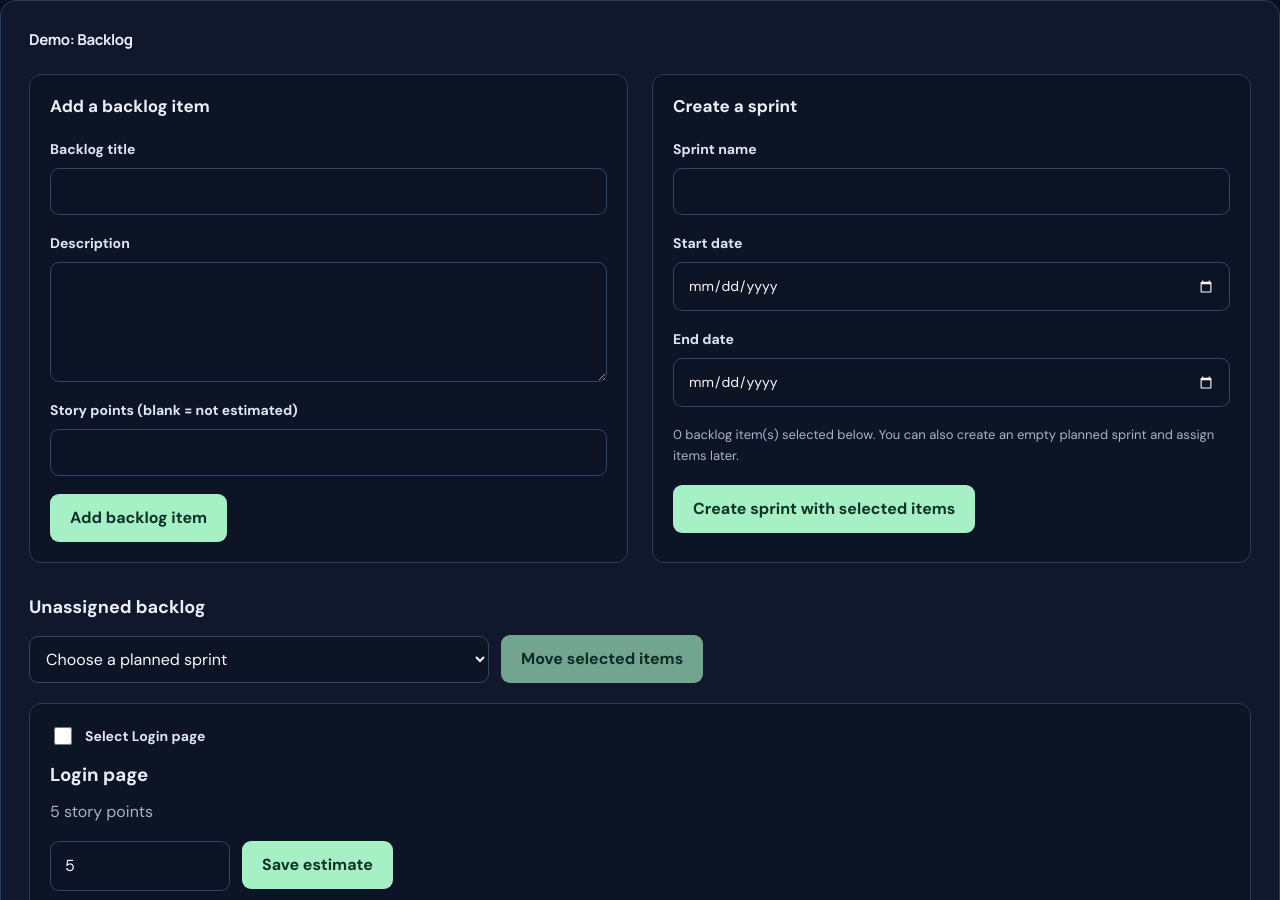
Test: assigns selected item and refreshes sprint membership and total
Expected: the heading "Demo: Backlog" is shown, [29, 29, 133, 50]
Click the checkbox labelled "Select Login page": (63, 736) [54, 727, 72, 745]
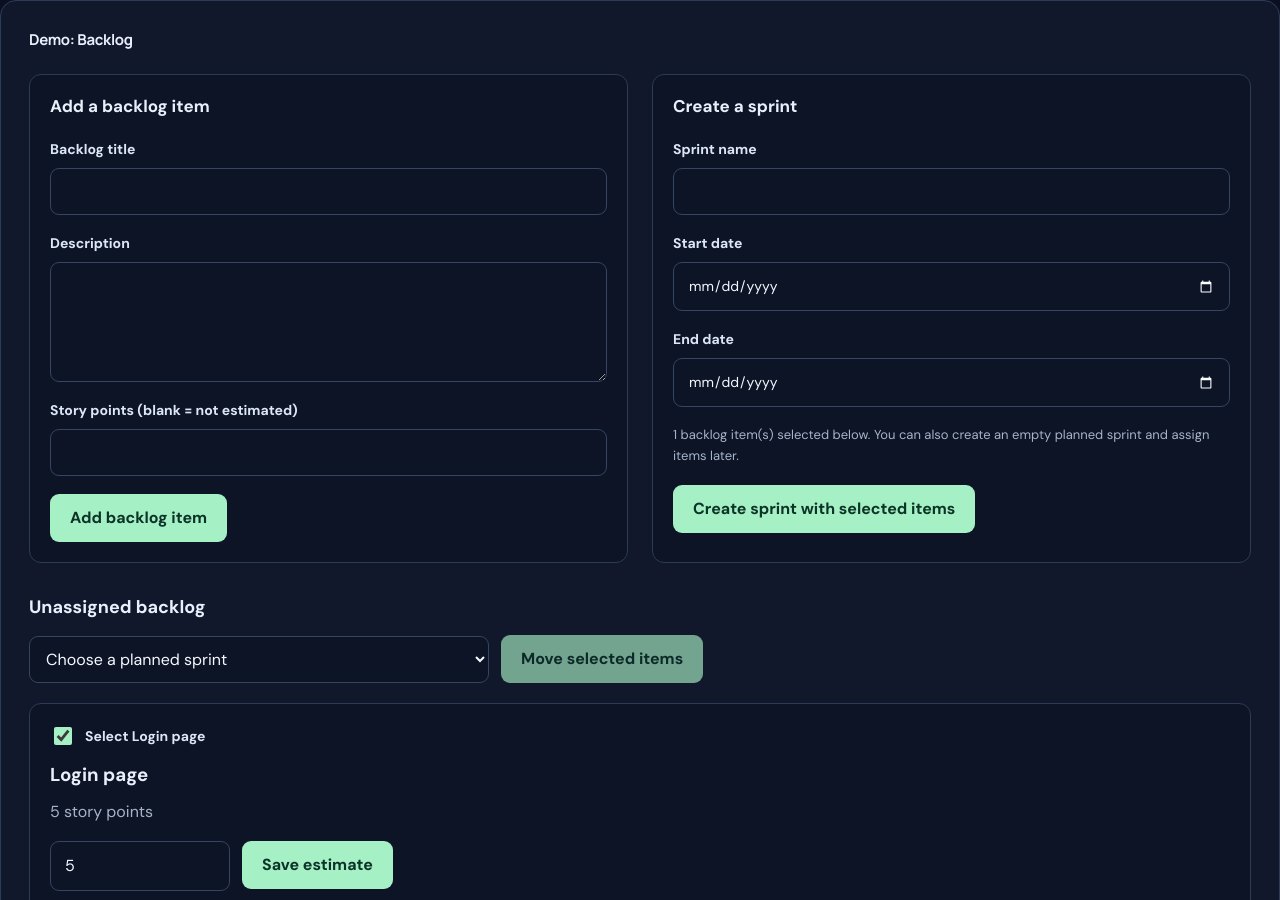
Select "Sprint 2" in the dropdown named "Destination sprint": (259, 659) [29, 636, 489, 682]
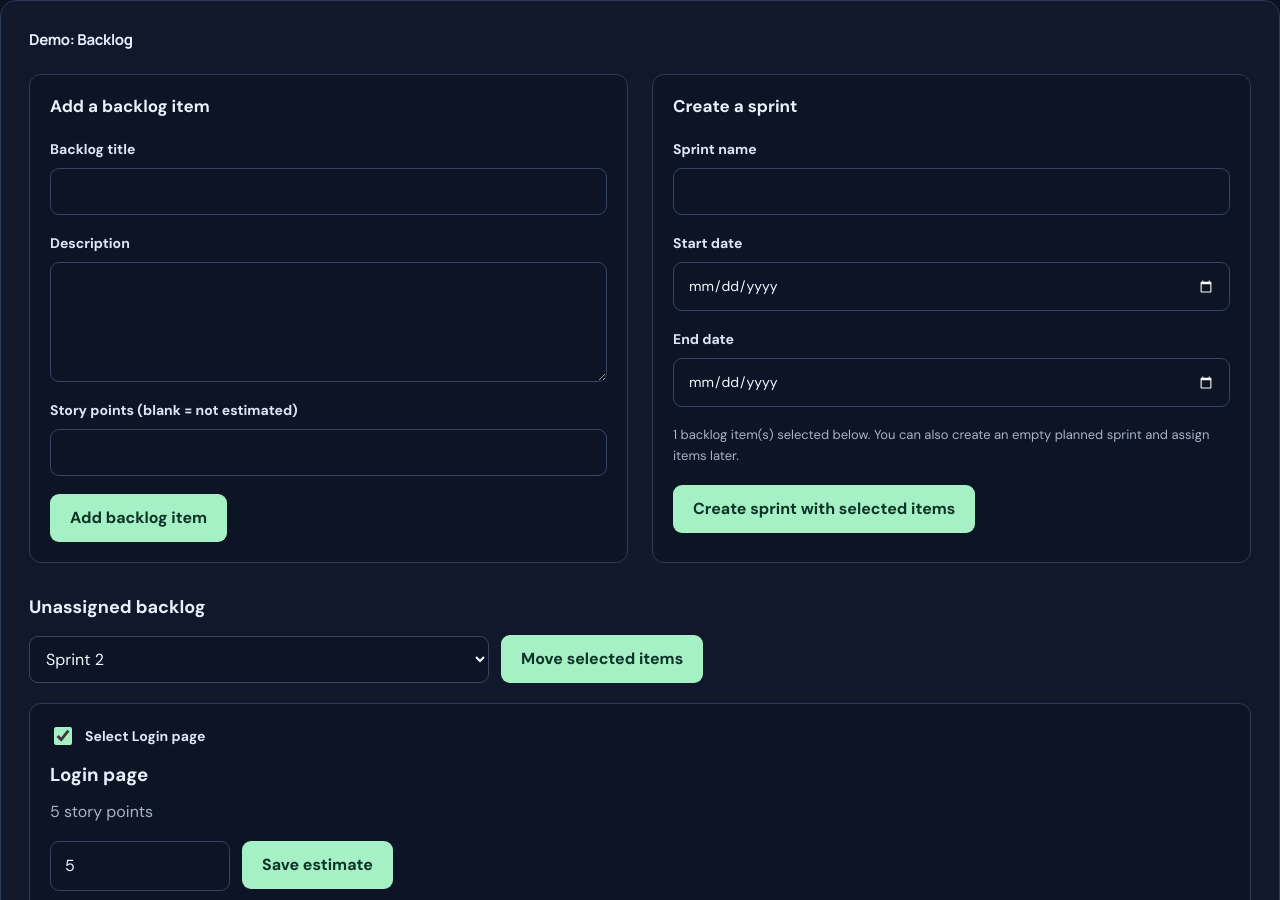
Click the button "Move selected items": (602, 659) [501, 635, 703, 683]
(page scrolled)
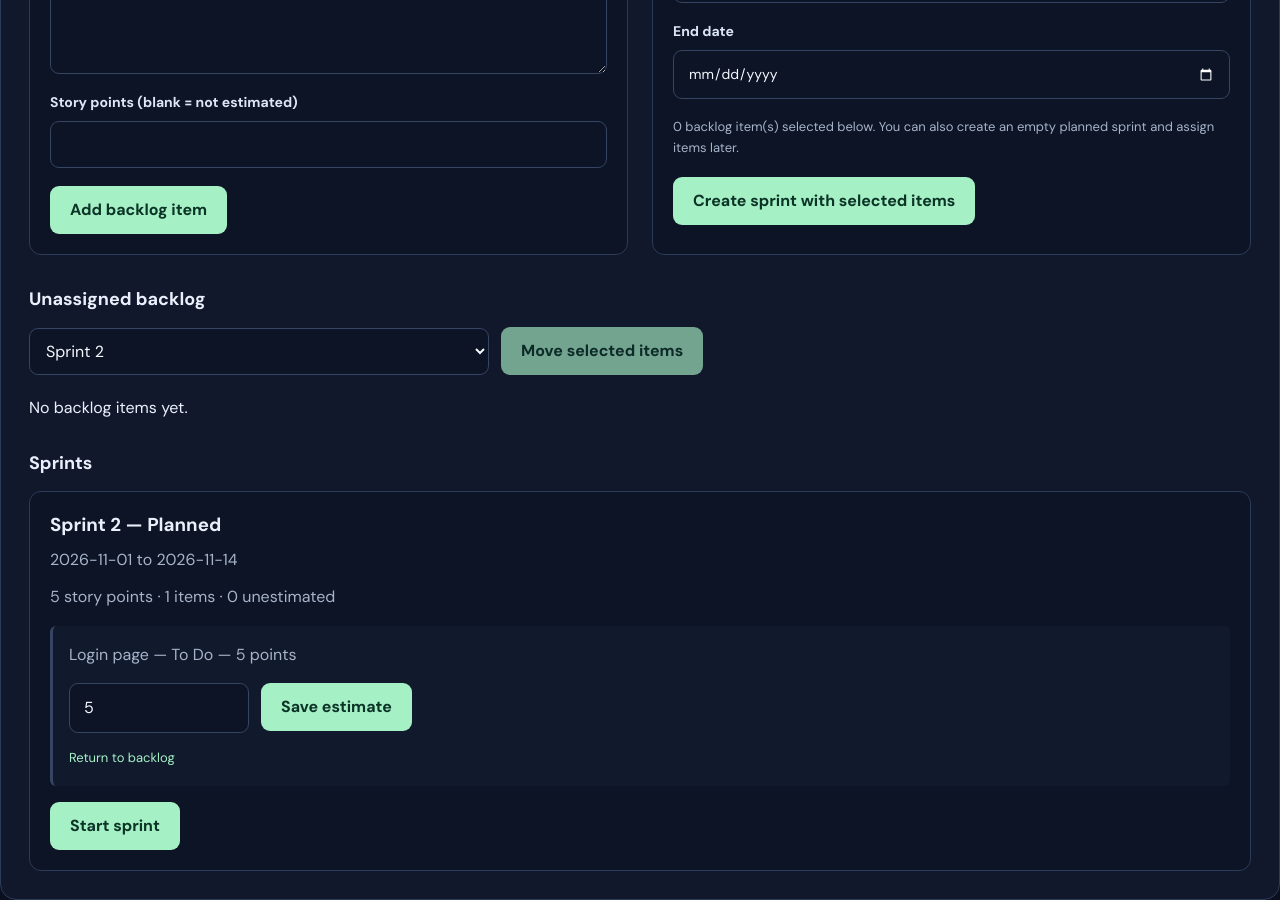
Result: the text "5 story points · 1 items · 0 unestimated" is shown at [50, 586, 335, 607]
Result: the checkbox is gone
